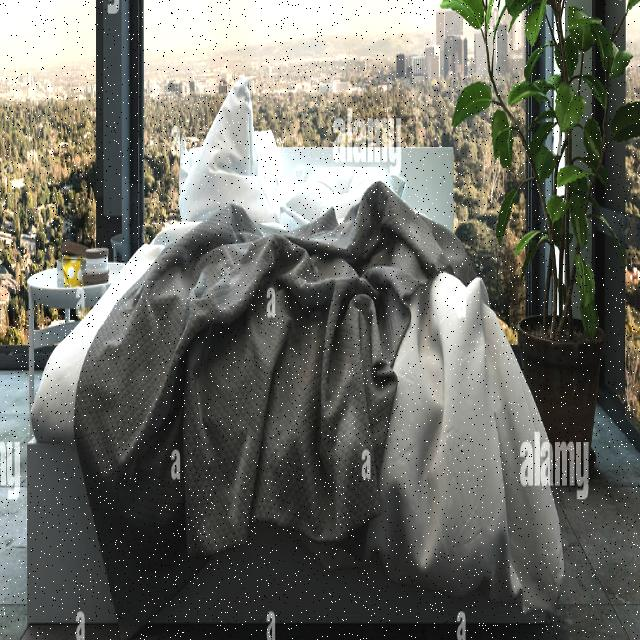bed: (38, 85, 552, 628)
